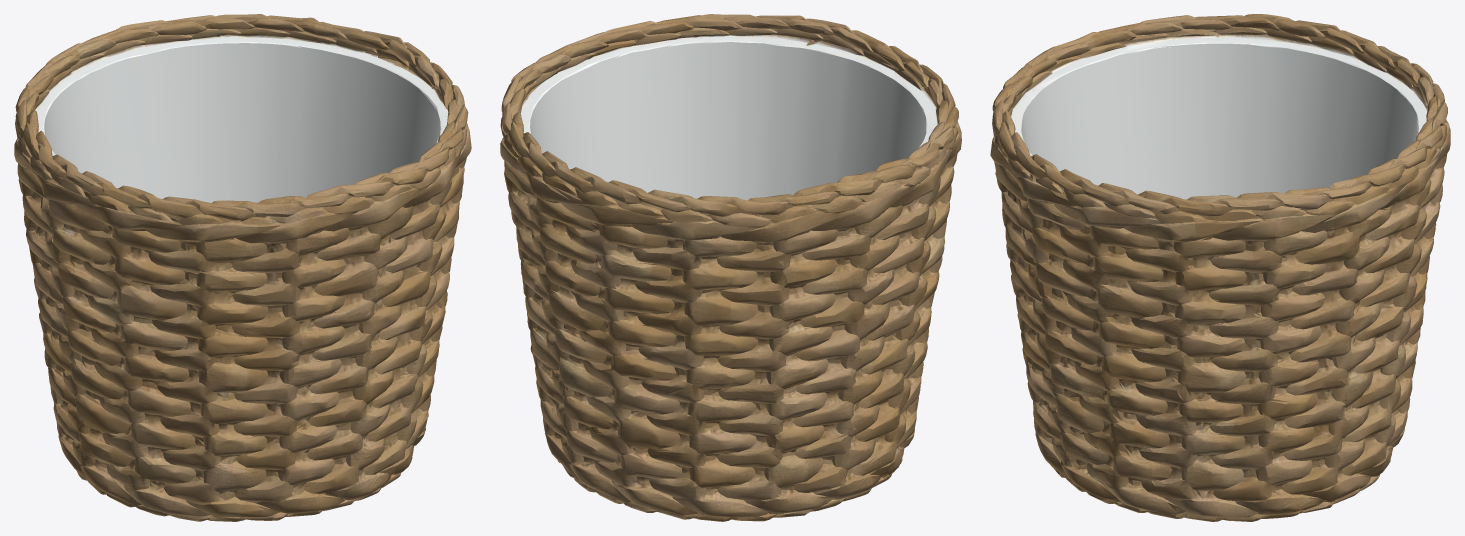
The model's file is 04 - FRIDFULL - 花盆，布袋蓮，12 公分 IKEA 線上購物.glb.
3 views of the same model, side by side, from view 1: azimuth 30°, elevation 25°; view 2: azimuth 150°, elevation 25°; view 3: azimuth 270°, elevation 25° (orthographic).
Parts seen in each view (by area): view 1: ProcessedMeshNode; view 2: ProcessedMeshNode; view 3: ProcessedMeshNode.
Boxes of the visible parts, x1,y1,x2,y2 form: ProcessedMeshNode: (14, 14, 471, 521); ProcessedMeshNode: (500, 14, 961, 521); ProcessedMeshNode: (990, 14, 1450, 521).
Bounding box in the file's own units: 0.151 × 0.1274 × 0.1508.
1 material, 1 textured.
